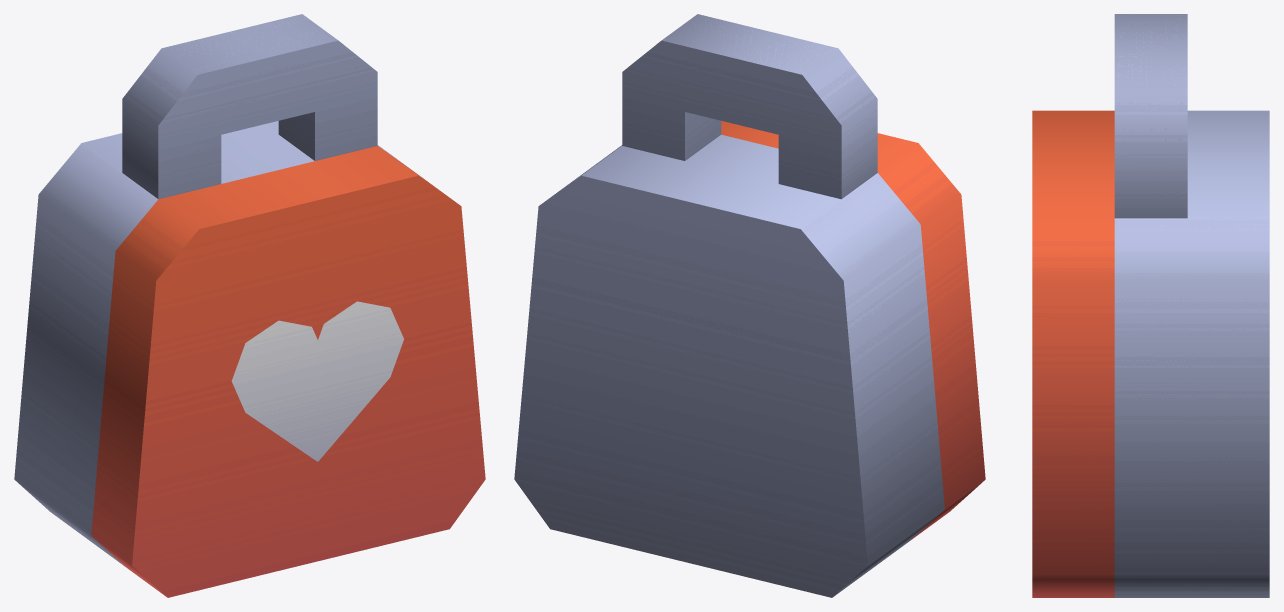
Rendered from aid-defibrillator-red.glb.
3 renders of one model, left to right at view 1: azimuth 30°, elevation 25°; view 2: azimuth 150°, elevation 25°; view 3: azimuth 270°, elevation 25°, orthographic.
Visible parts, largest first — view 1: aid-defibrillator-red, Group; view 2: aid-defibrillator-red; view 3: aid-defibrillator-red.
Boxes of the visible parts, left/top/right/bottom form: aid-defibrillator-red: left=14, top=14, right=485, bottom=597; Group: left=231, top=301, right=403, bottom=461; aid-defibrillator-red: left=514, top=14, right=985, bottom=597; aid-defibrillator-red: left=1032, top=14, right=1269, bottom=597.
Size of the model in its own units: 0.2255 by 0.29 by 0.14.
Materials: 1 (1 with a texture image).
